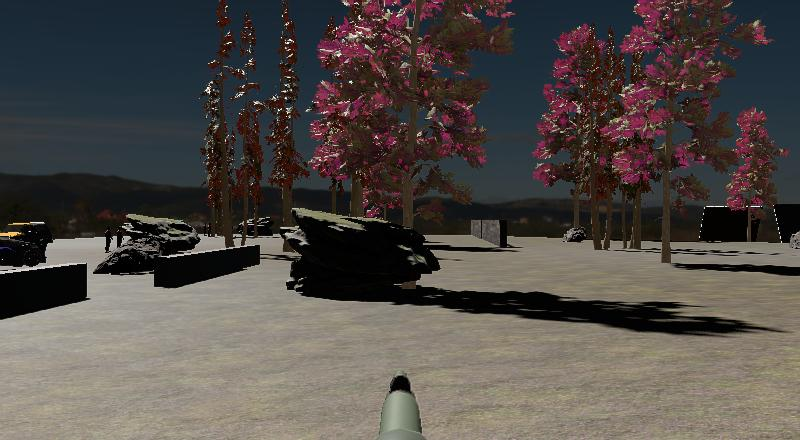car: (0, 216, 55, 262), (0, 231, 45, 269)
